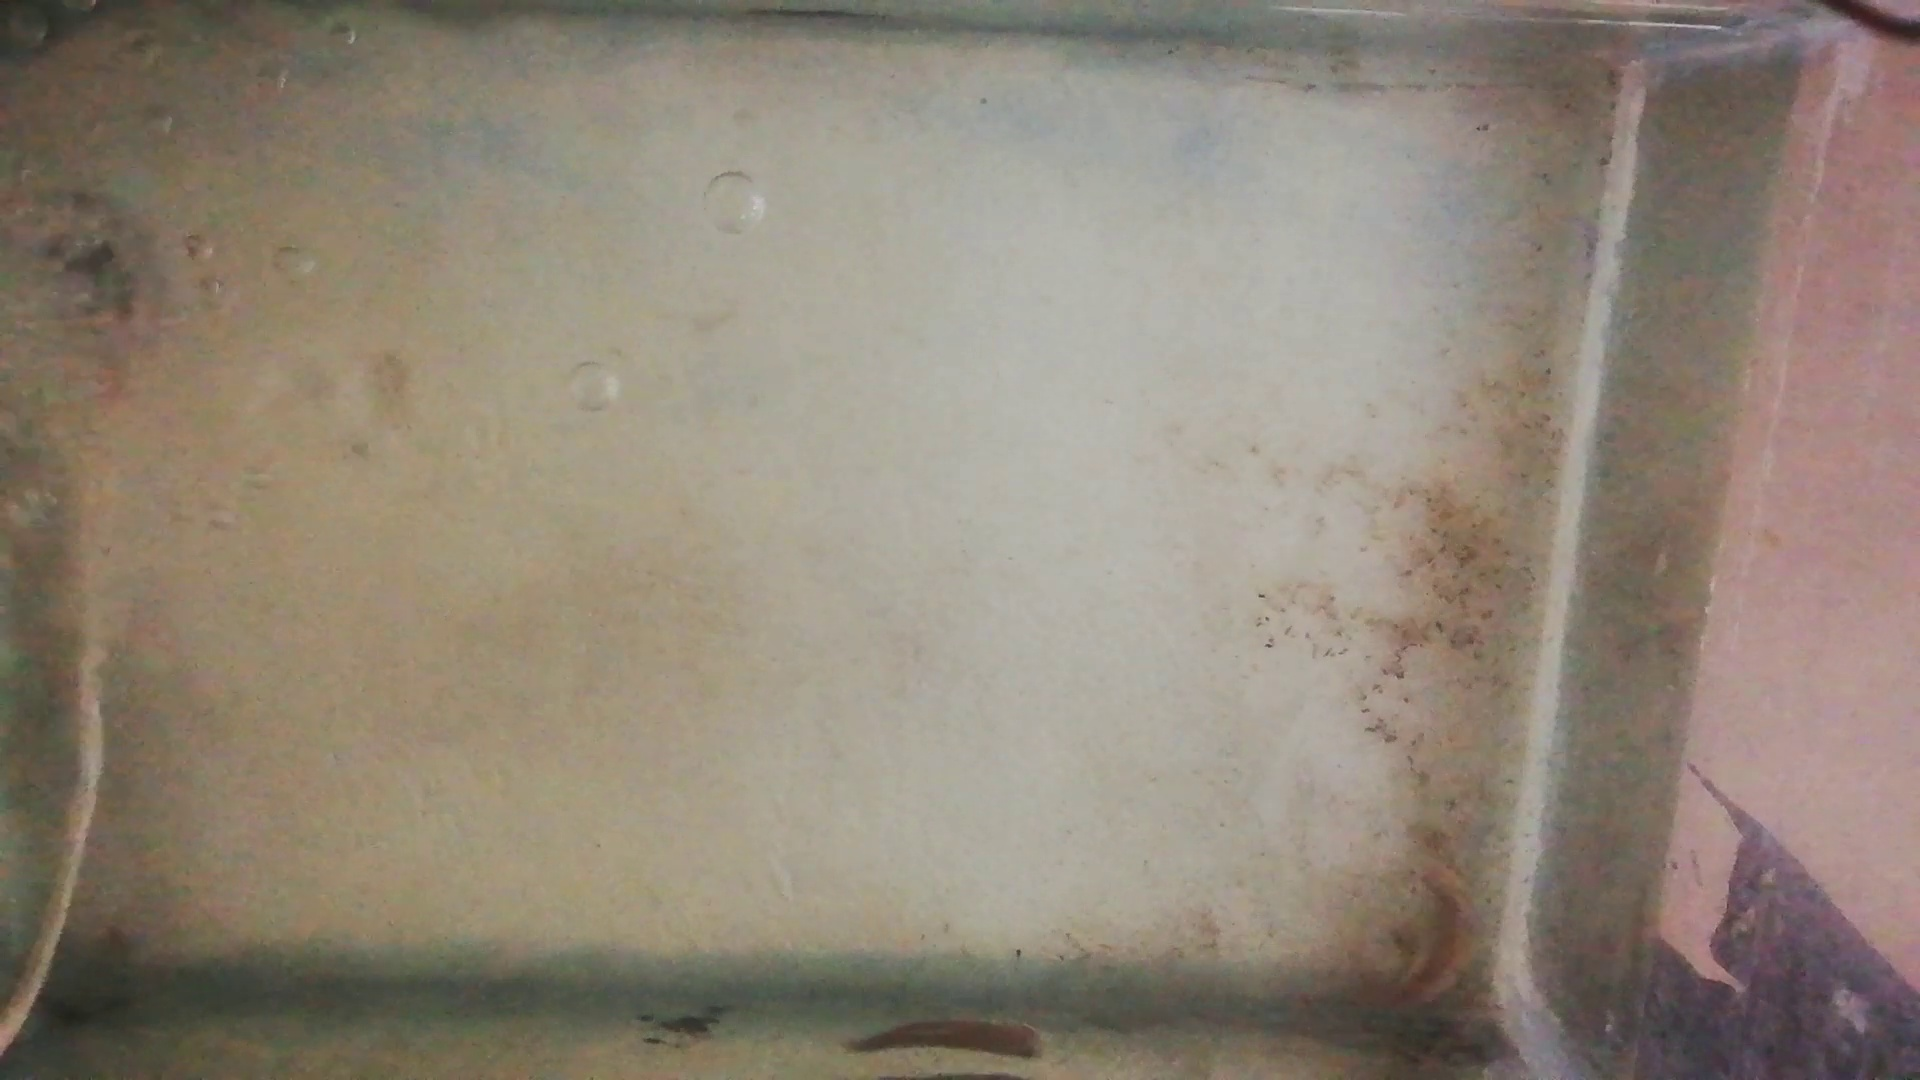fish: (1399, 865, 1473, 1013), (843, 1015, 1054, 1063)
